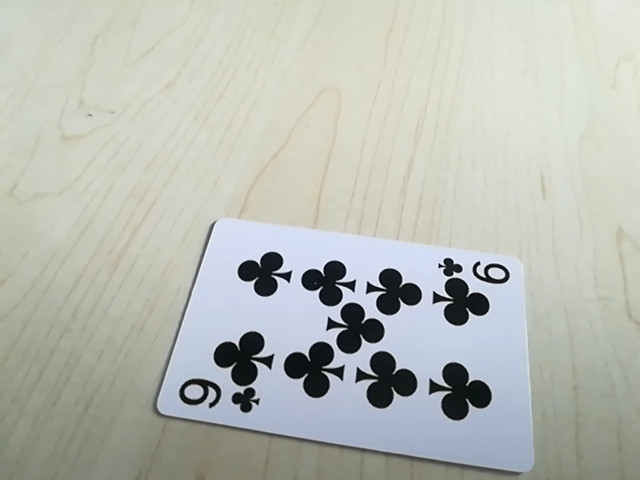mh 9: (174, 376, 261, 418), (436, 257, 515, 286)
